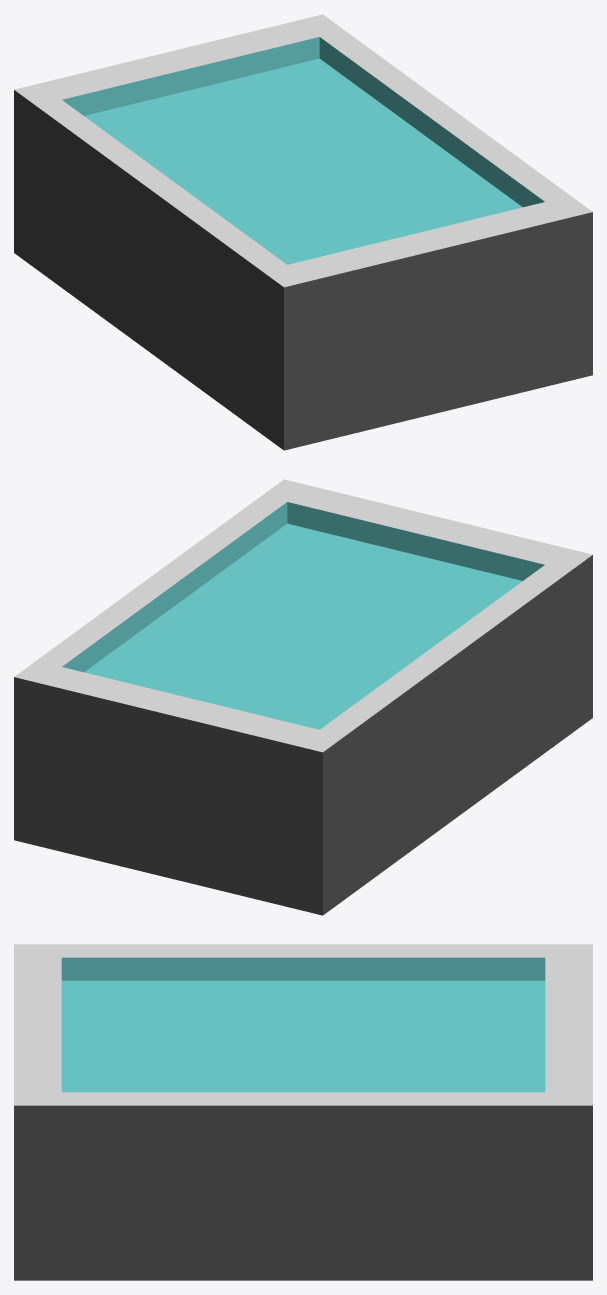
Rendered from pool.fbx.
3 renders of one model, top to bottom at view 1: azimuth 30°, elevation 25°; view 2: azimuth 150°, elevation 25°; view 3: azimuth 270°, elevation 25°, orthographic. The views are drawn at different scales.
Visible parts, largest first — view 1: pool; view 2: pool; view 3: pool.
Boxes of the visible parts, left/top/right/bottom form: pool: left=14, top=14, right=592, bottom=450; pool: left=14, top=479, right=592, bottom=915; pool: left=14, top=944, right=592, bottom=1280.
Size of the model in its own units: 12.53 by 6.33 by 18.97.
